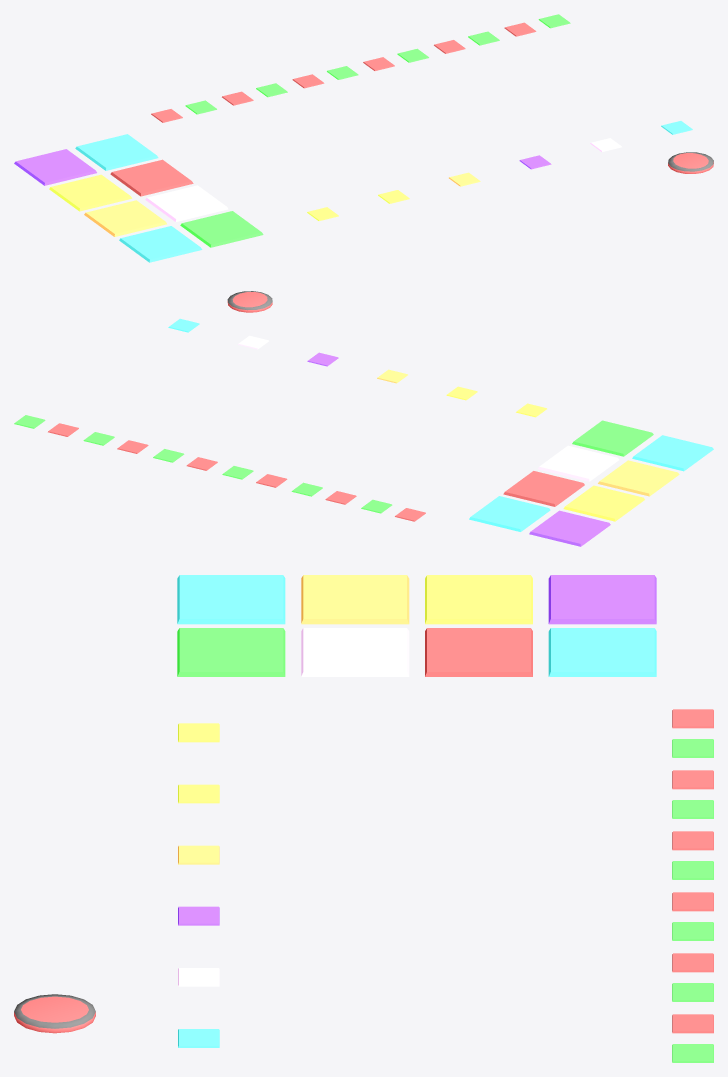
Rendered from rodeCasterLights.glb.
3 views of the same model, one above another, from view 1: azimuth 30°, elevation 25°; view 2: azimuth 150°, elevation 25°; view 3: azimuth 270°, elevation 25° (orthographic). The views are drawn at different scales.
Visible parts, largest first — view 1: RodeCasterLights, RodeCasterRGLights, RodeCasterChannelsLights, RodeCasterPowerLights; view 2: RodeCasterLights, RodeCasterRGLights, RodeCasterChannelsLights, RodeCasterPowerLights; view 3: RodeCasterLights, RodeCasterRGLights, RodeCasterChannelsLights, RodeCasterPowerLights.
Boxes of the visible parts, x1=… form: RodeCasterLights: x1=14, y1=134, x2=263, y2=262; RodeCasterRGLights: x1=151, y1=14, x2=570, y2=122; RodeCasterChannelsLights: x1=307, y1=121, x2=692, y2=220; RodeCasterPowerLights: x1=668, y1=152, x2=713, y2=173; RodeCasterLights: x1=469, y1=420, x2=713, y2=546; RodeCasterRGLights: x1=14, y1=415, x2=425, y2=521; RodeCasterChannelsLights: x1=168, y1=318, x2=546, y2=417; RodeCasterPowerLights: x1=227, y1=291, x2=272, y2=312; RodeCasterLights: x1=177, y1=575, x2=656, y2=676; RodeCasterRGLights: x1=672, y1=709, x2=713, y2=1062; RodeCasterChannelsLights: x1=178, y1=723, x2=219, y2=1047; RodeCasterPowerLights: x1=14, y1=994, x2=95, y2=1033.
Size of the model in its own units: 0.2201 by 0.00134 by 0.1344.
